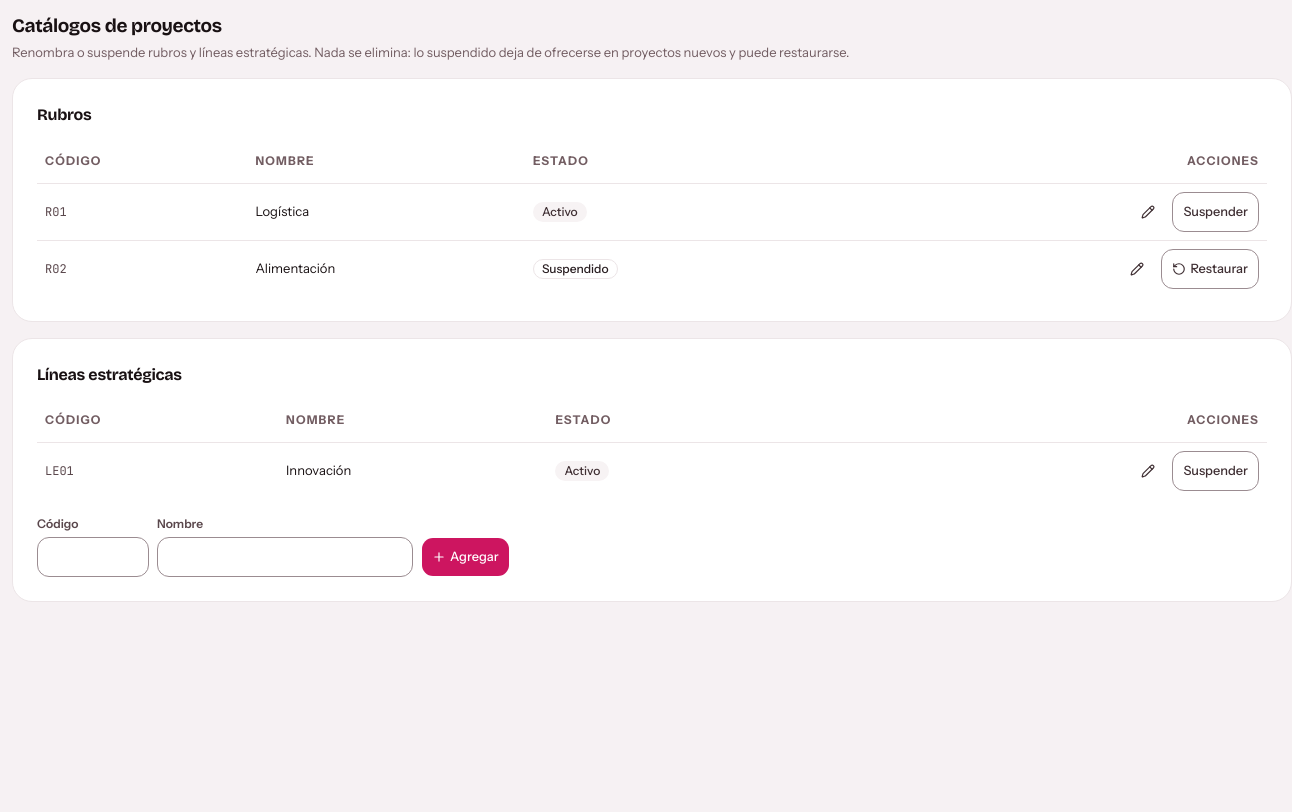
Scenario: CatalogosV2Section › creates a line and shows the Spanish conflict message on 409
Type "LE09" into the field labelled "Código".
click(93, 557); type("LE09")  # box [37, 537, 149, 577]
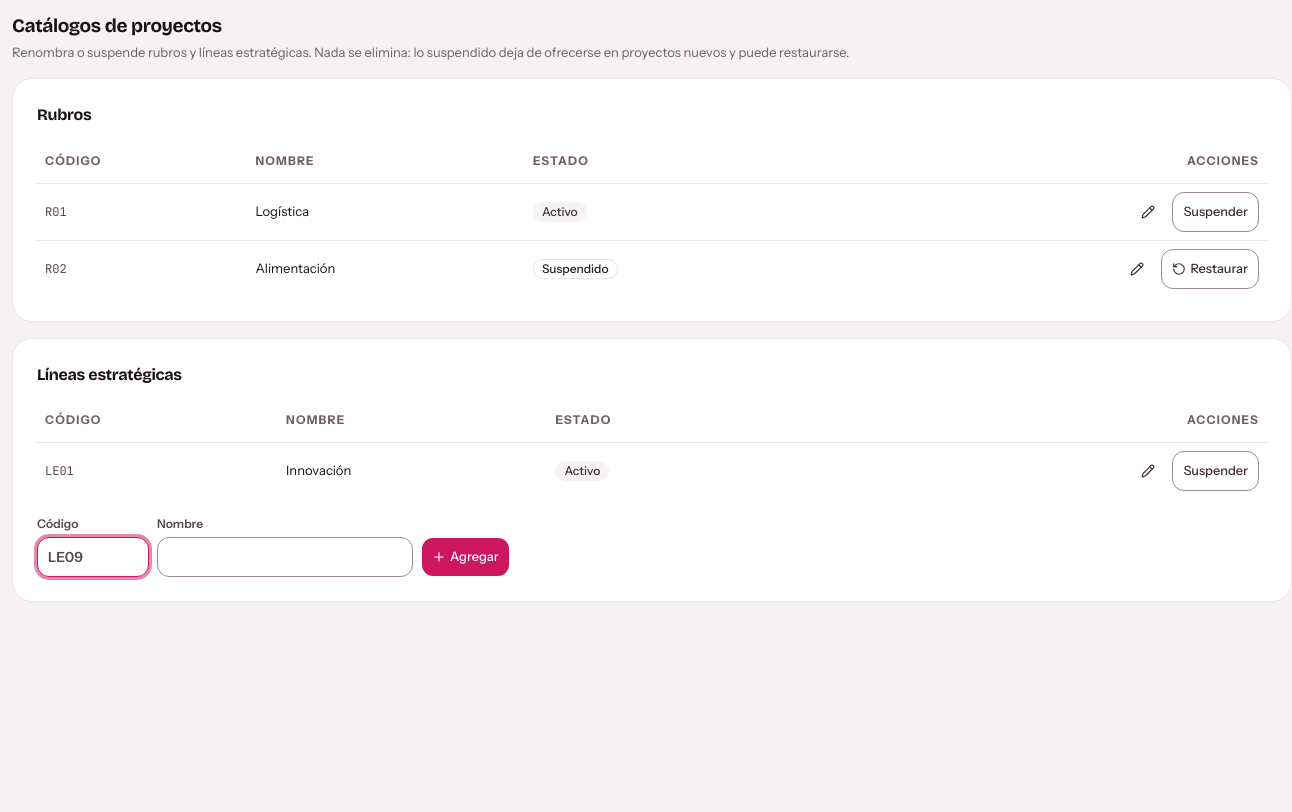
Type "Nueva" into the field labelled "Nombre".
click(285, 557); type("Nueva")  # box [157, 537, 413, 577]
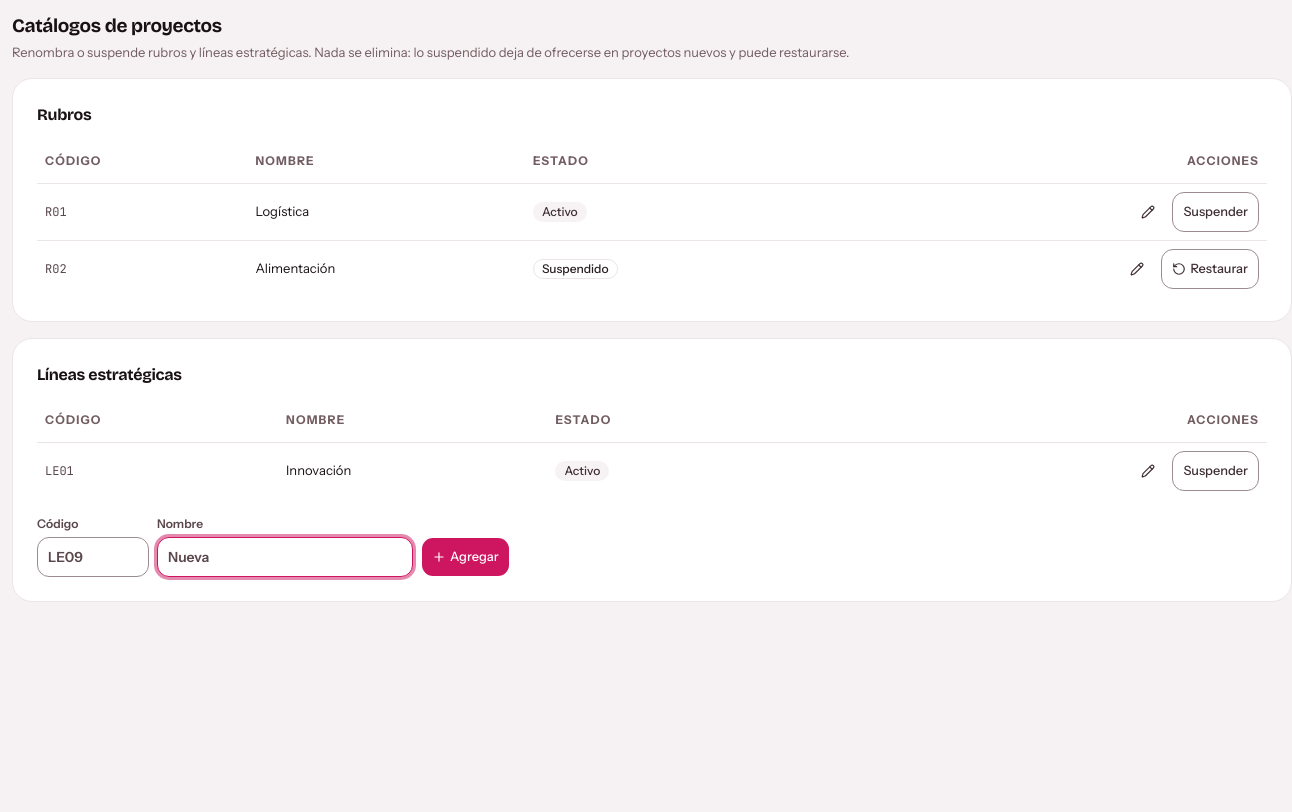
Click the button "Agregar".
click(465, 557)  # box [421, 537, 510, 577]
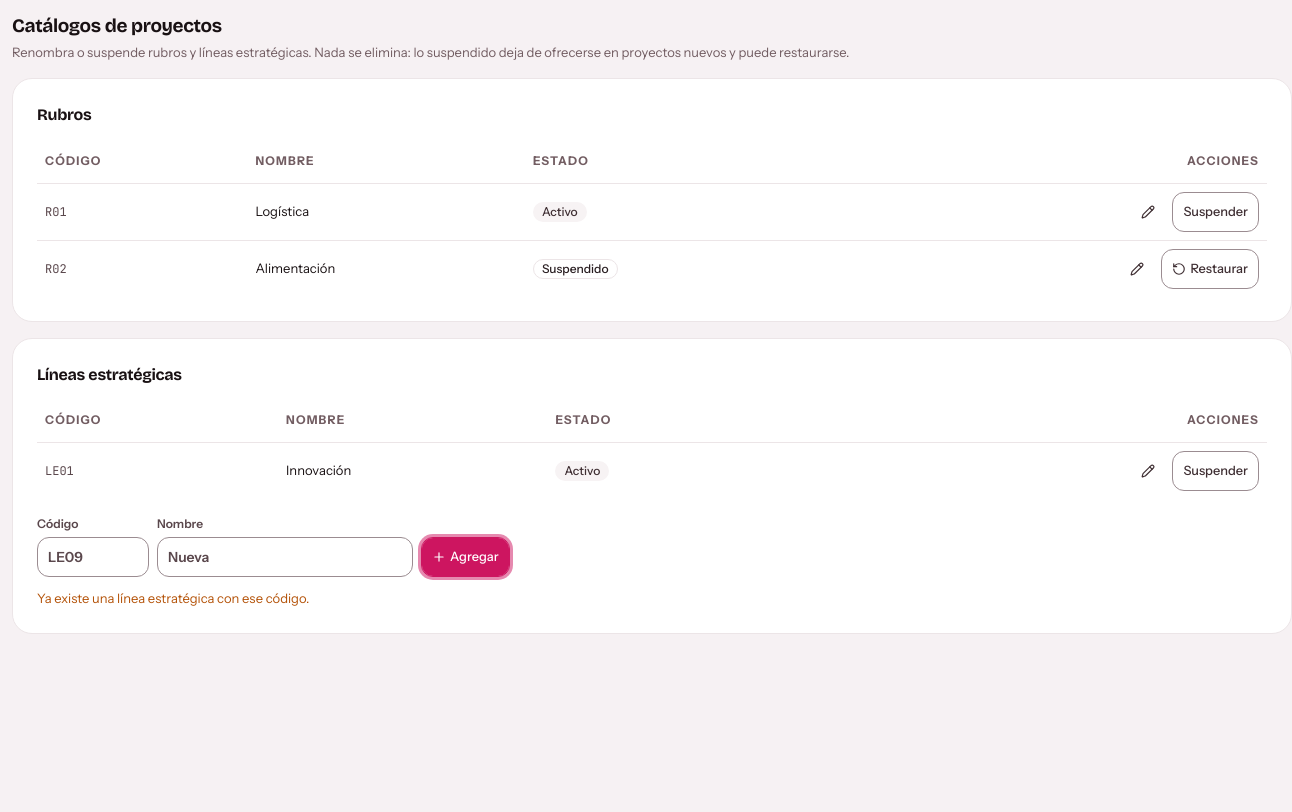
Result: the message reads "Ya existe una línea estratégica con ese código." at [37, 590, 309, 606]
